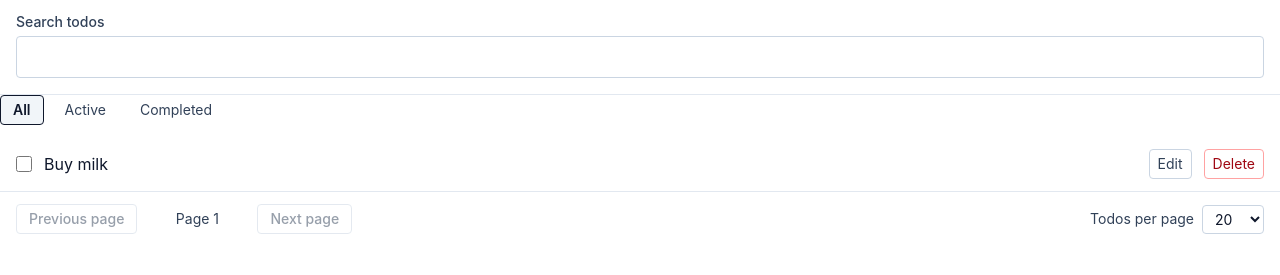
Test: TodoFlows completion checkbox › leaves the checkbox in its old state and shows a safe message when the update fails
What coordinates should you click on to do the following:
click the checkbox labelled "Buy milk"
I would click on:
 (24, 164)
Its box is [16, 156, 32, 172].
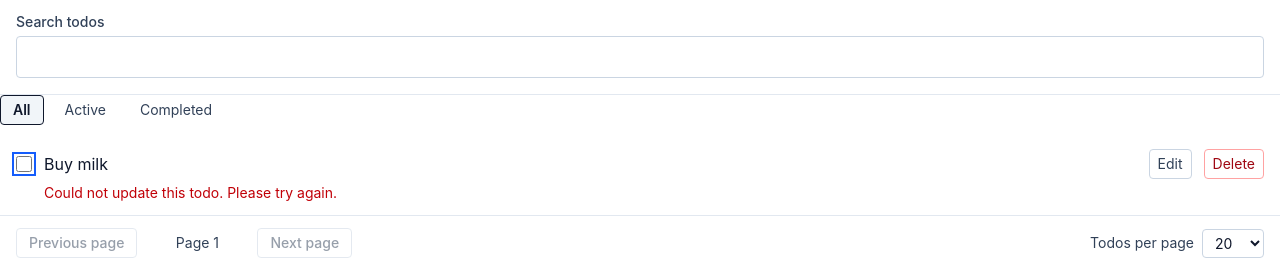
Check: the message shows "Could not update this todo", box [44, 184, 337, 201]
